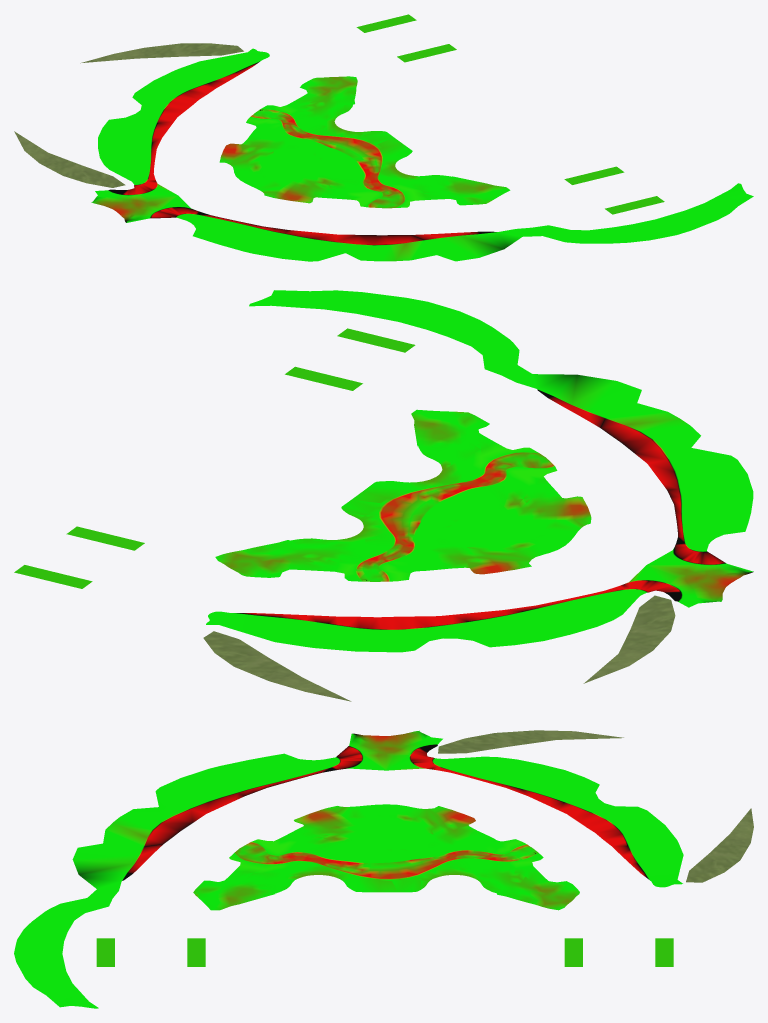
The model's file is pref_sm_beach_techcenter_Terrains_a_lv3.fbx.
3 renders of one model, top to bottom at view 1: azimuth 30°, elevation 25°; view 2: azimuth 150°, elevation 25°; view 3: azimuth 270°, elevation 25°, orthographic. The views are drawn at different scales.
Parts seen in each view (by area): view 1: sm_beach_techsmall_001_outer_R_lv3, sm_beach_techsmall_001_inner_R_lv3, sm_beach_techsmall_001_outer_R02_lv3; view 2: sm_beach_techsmall_001_outer_R_lv3, sm_beach_techsmall_001_inner_R_lv3, sm_beach_techsmall_001_outer_R02_lv3; view 3: sm_beach_techsmall_001_outer_R_lv3, sm_beach_techsmall_001_inner_R_lv3, sm_beach_techsmall_001_outer_R02_lv3.
Boxes of the visible parts, box(x1,y1,x2,y2) form: sm_beach_techsmall_001_outer_R_lv3: box(91, 48, 753, 261); sm_beach_techsmall_001_inner_R_lv3: box(219, 14, 664, 214); sm_beach_techsmall_001_outer_R02_lv3: box(14, 43, 243, 187); sm_beach_techsmall_001_outer_R_lv3: box(206, 290, 753, 652); sm_beach_techsmall_001_inner_R_lv3: box(14, 328, 591, 588); sm_beach_techsmall_001_outer_R02_lv3: box(203, 595, 675, 701); sm_beach_techsmall_001_outer_R_lv3: box(14, 730, 683, 1008); sm_beach_techsmall_001_inner_R_lv3: box(96, 804, 673, 966); sm_beach_techsmall_001_outer_R02_lv3: box(438, 730, 753, 882).
Size of the model in its own units: 70.32 by 0.3496 by 79.07.
